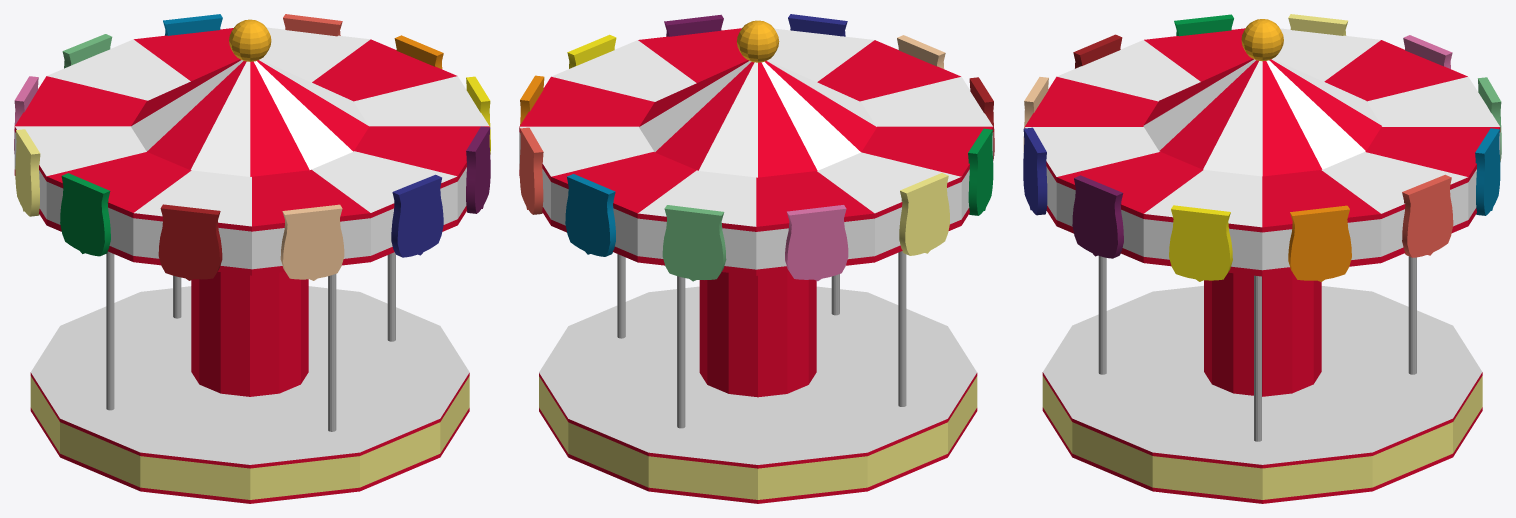
Rendered from SM_Carousel.fbx.
3 views of the same model, side by side, from view 1: azimuth 30°, elevation 25°; view 2: azimuth 150°, elevation 25°; view 3: azimuth 270°, elevation 25° (orthographic).
Parts seen in each view (by area): view 1: SM_Carousel; view 2: SM_Carousel; view 3: SM_Carousel.
Part boxes in pixels (x1,y1,x2,y2): SM_Carousel: (14,14,490,503); SM_Carousel: (519,14,994,503); SM_Carousel: (1023,14,1501,503).
Size of the model in its own units: 108 by 99.6 by 108.
